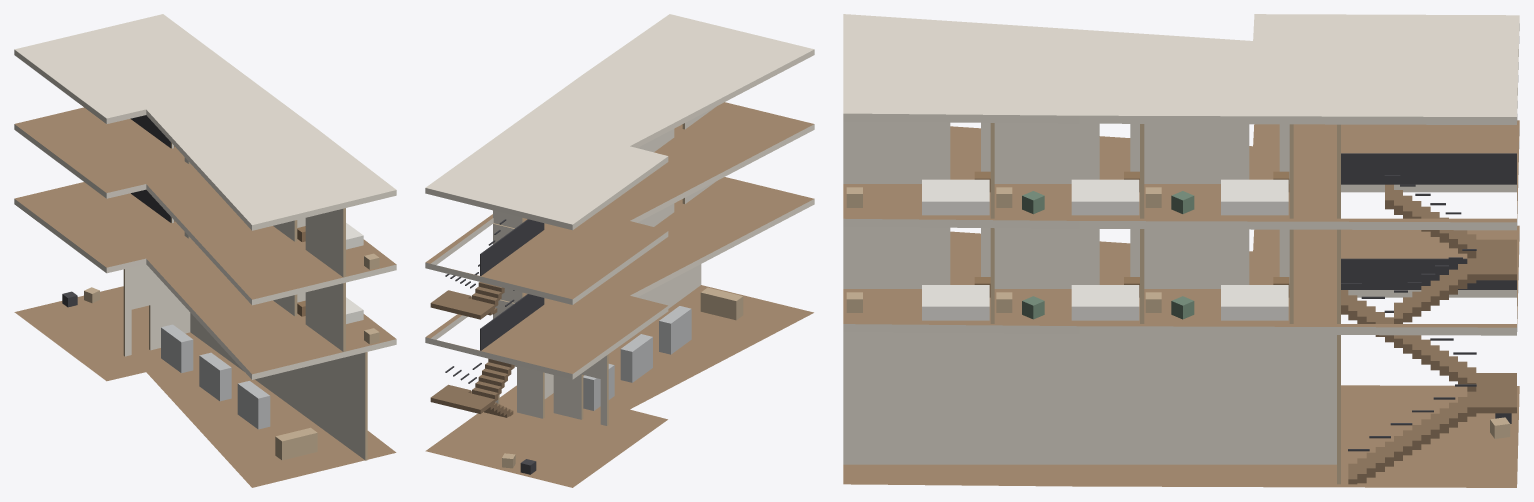
The model's file is interior.glb.
3 views of the same model, side by side, from view 1: azimuth 30°, elevation 25°; view 2: azimuth 150°, elevation 25°; view 3: azimuth 270°, elevation 25° (orthographic). The views are drawn at different scales.
Parts seen in each view (by area): view 1: slabs, partitions, coarse-s0, stair, coarse-s2, coarse-s1; view 2: slabs, stair, partitions, coarse-s0; view 3: slabs, partitions, stair, coarse-s2, coarse-s1.
Boxes of the visible parts, x1=… form: slabs: x1=14, y1=14, x2=396, y2=487; partitions: x1=123, y1=142, x2=367, y2=460; coarse-s0: x1=62, y1=287, x2=317, y2=460; stair: x1=130, y1=115, x2=174, y2=222; coarse-s2: x1=297, y1=223, x2=379, y2=269; coarse-s1: x1=297, y1=297, x2=379, y2=344; slabs: x1=425, y1=14, x2=814, y2=487; stair: x1=430, y1=219, x2=544, y2=417; partitions: x1=493, y1=106, x2=716, y2=425; coarse-s0: x1=502, y1=287, x2=743, y2=474; slabs: x1=843, y1=14, x2=1519, y2=487; partitions: x1=843, y1=121, x2=1340, y2=484; stair: x1=1341, y1=153, x2=1516, y2=484; coarse-s2: x1=846, y1=171, x2=1289, y2=215; coarse-s1: x1=846, y1=277, x2=1289, y2=320.
Bounding box in the file's own units: 7.2 × 12.09 × 19.95.
